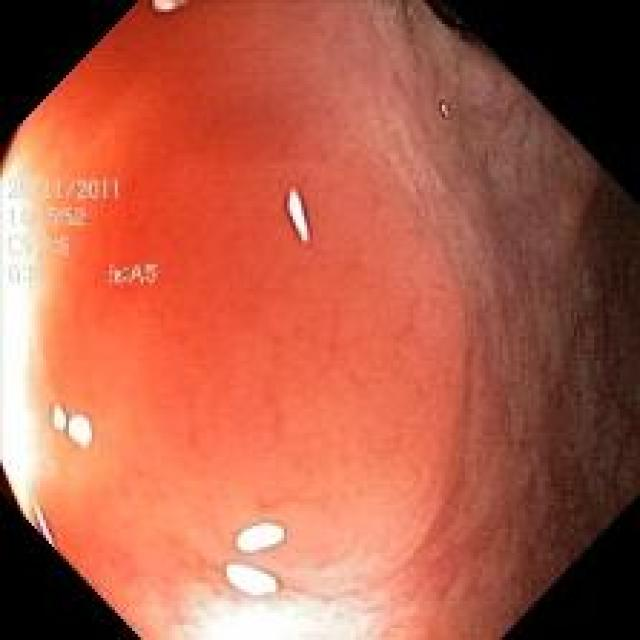Polyps: (5, 4, 467, 639)
